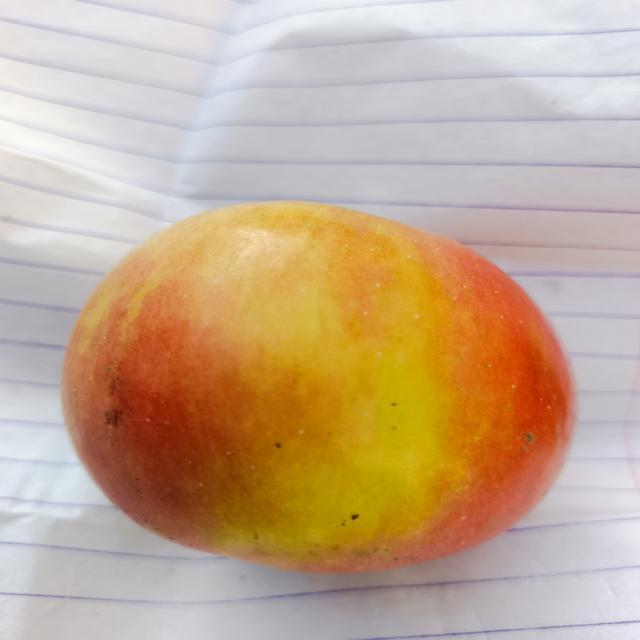Fresh Apple: (56, 195, 574, 564)
